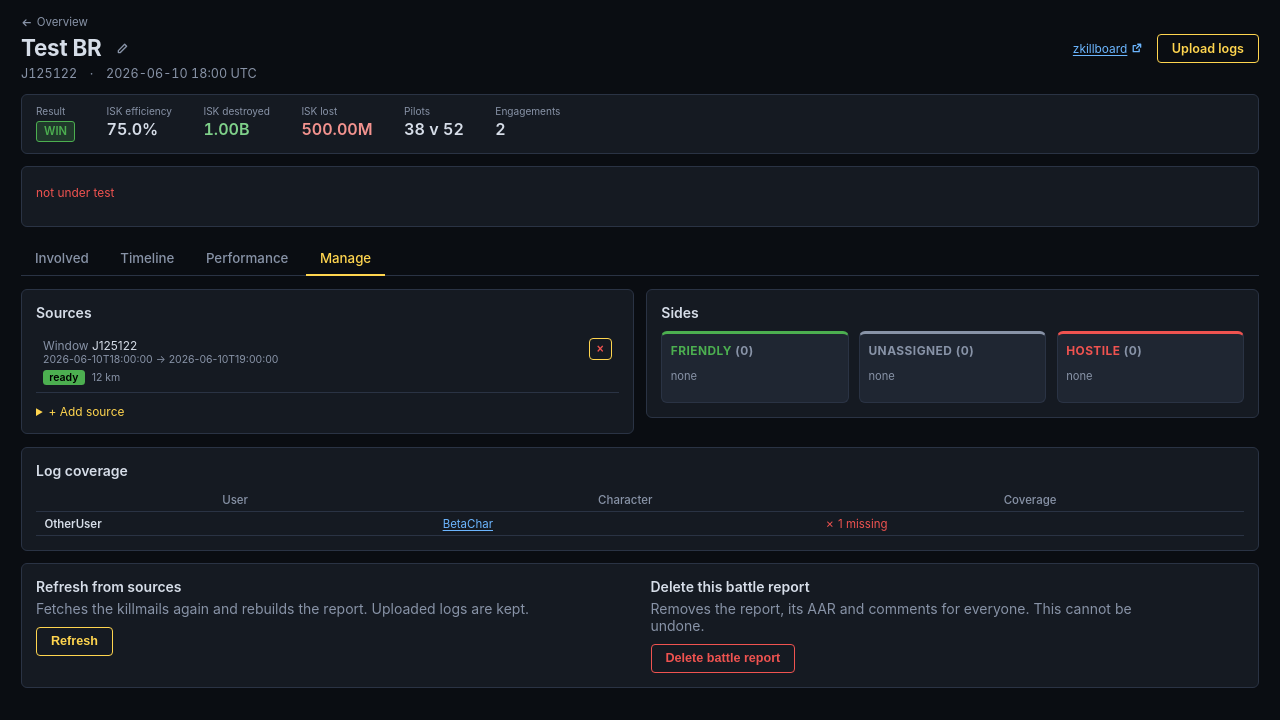
Test: BrDetailPage › manage tab (FC / High Command) › Refresh starts a refresh and shows its progress
What coordinates should you click on to do the following:
click the button with test id "refresh-btn"
I would click on:
 (74, 641)
Its box is top-left (36, 627), bottom-right (113, 656).
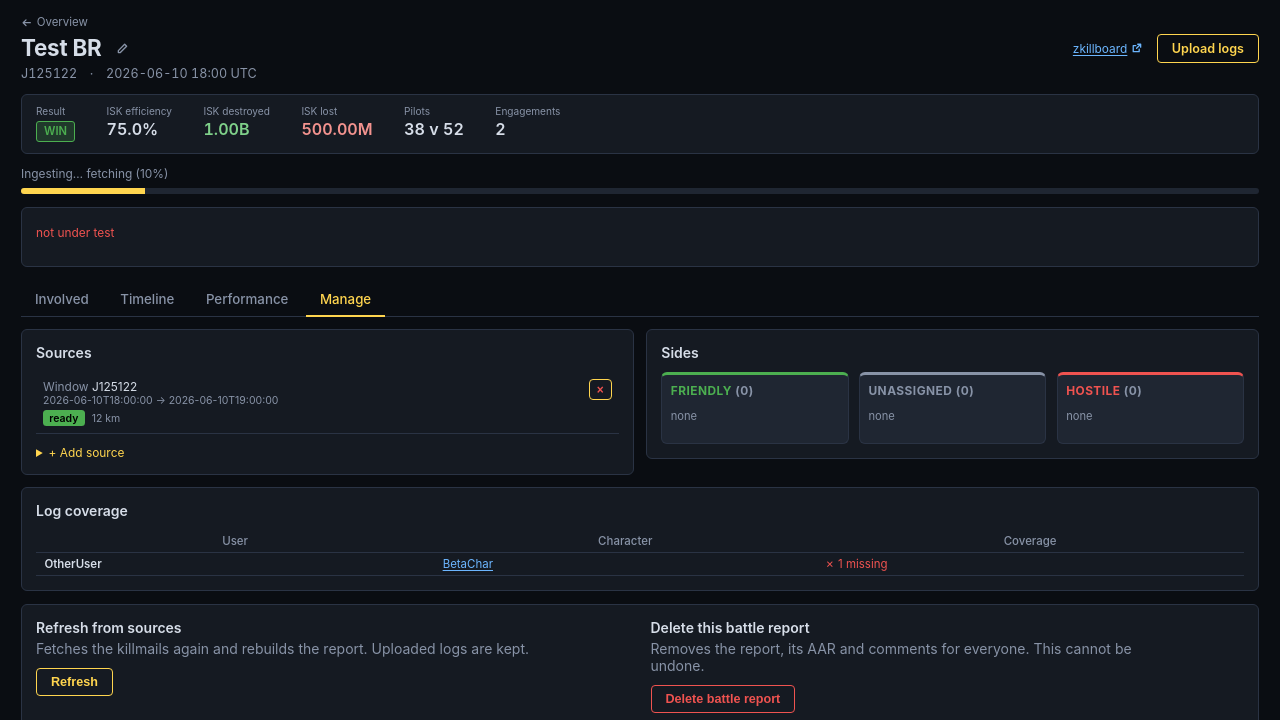
Now the element with test id "ingest-progress" shows "fetching", box top-left (86, 166), bottom-right (132, 181)
